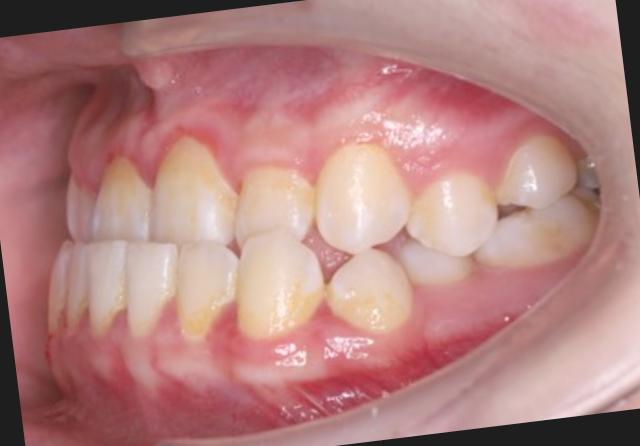canine class III 1/2: (218, 138, 432, 372)
